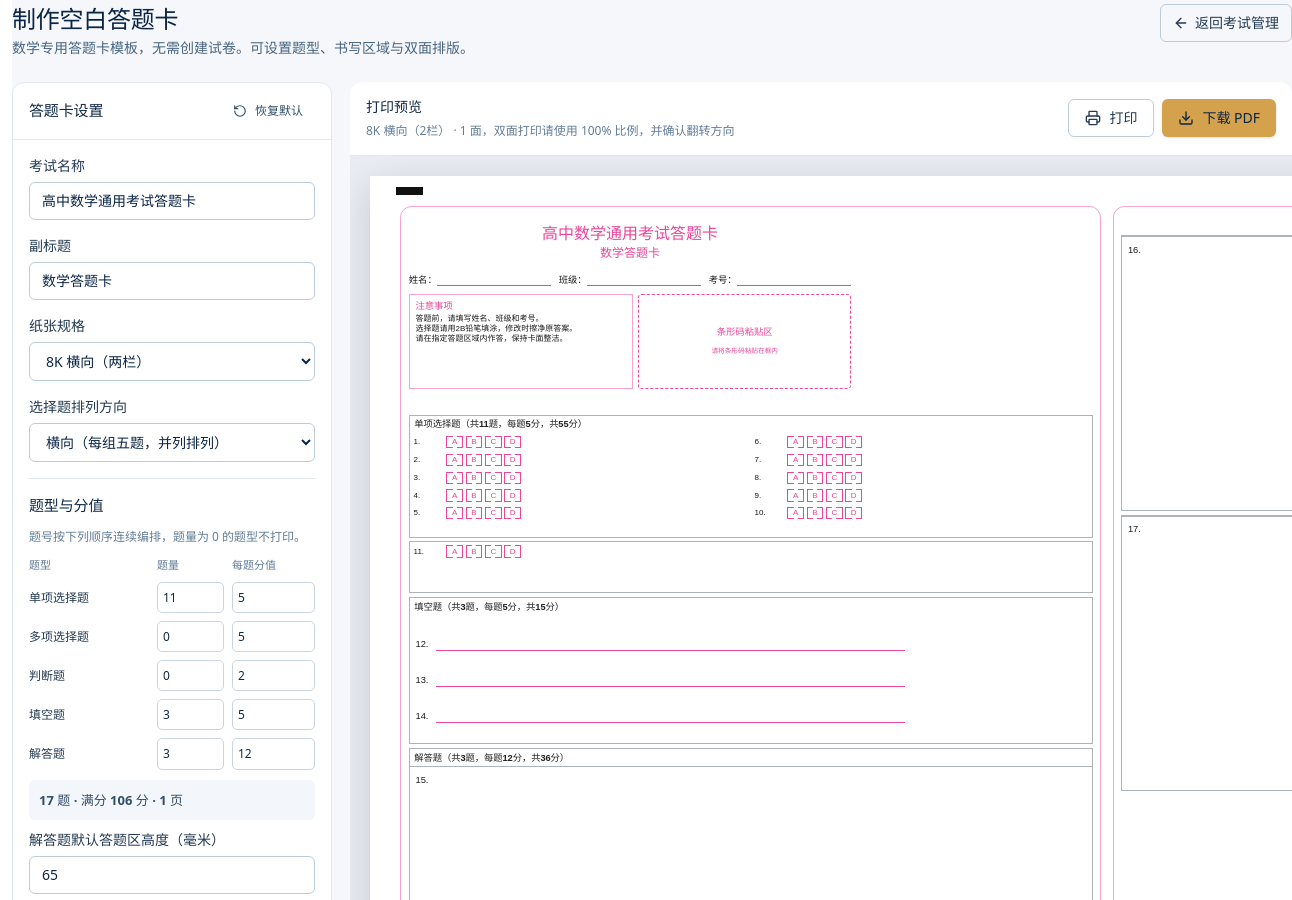
Scenario: 独立空白答题卡制作 › keeps multiple fill questions together instead of creating a box every three questions
Replace the text in the number field named "填空题题量" with "8" at {"x": 190, "y": 715}, box [157,699,224,730]
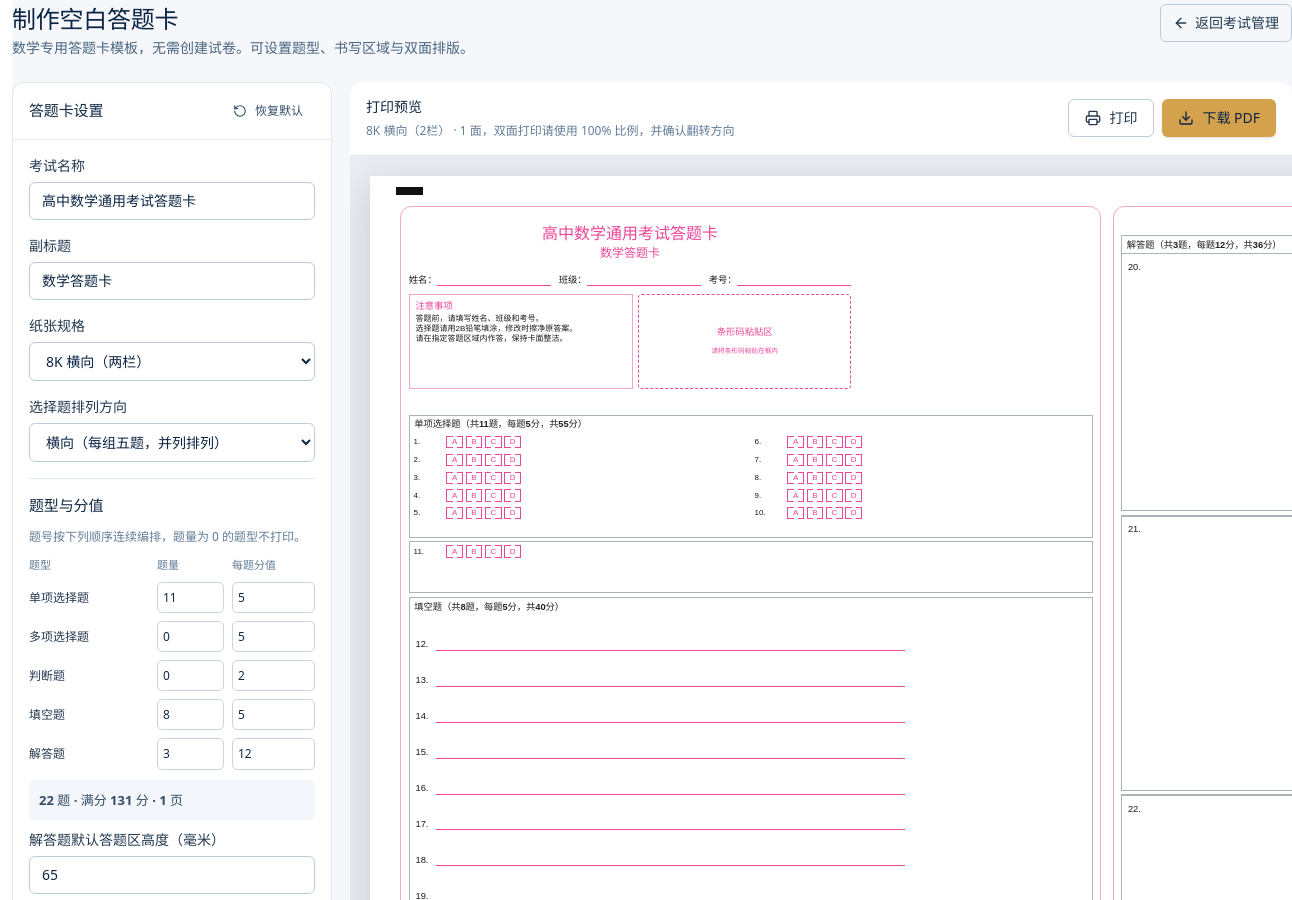
Now the number of elements with class "blank-sheet-fill-row" is 8
